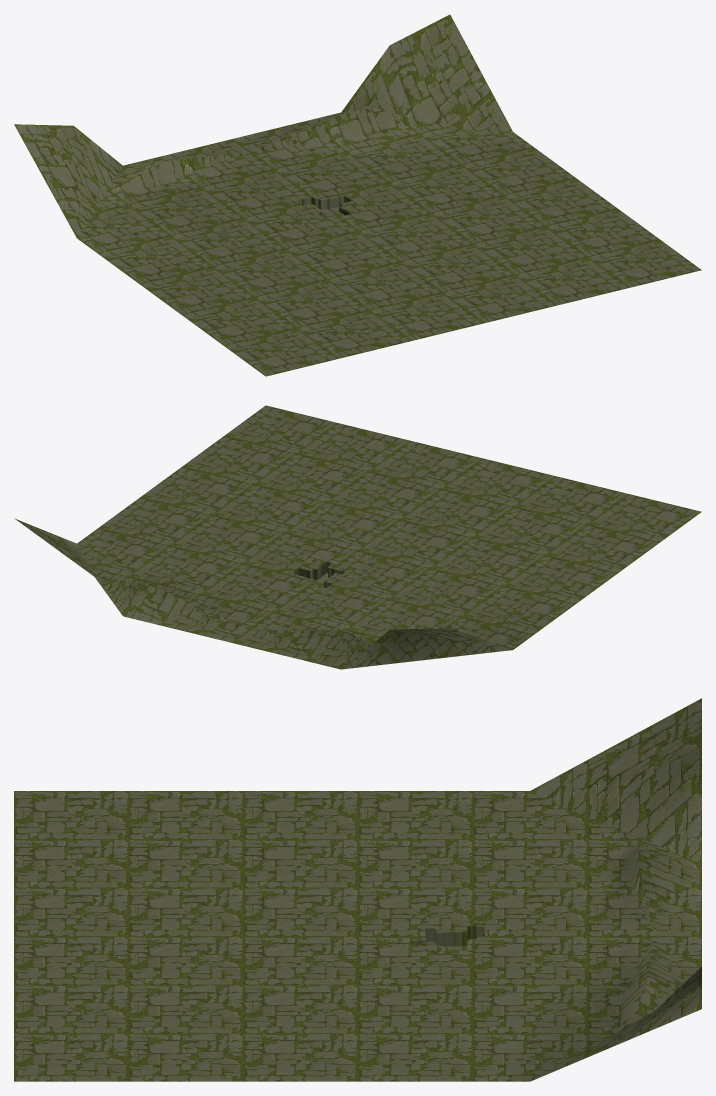
File: f_1132_floor_t4m.FBX
3 views of the same model, one above another, from view 1: azimuth 30°, elevation 25°; view 2: azimuth 150°, elevation 25°; view 3: azimuth 270°, elevation 25° (orthographic). The views are drawn at different scales.
Visible parts, largest first — view 1: Plane001; view 2: Plane001; view 3: Plane001.
Boxes of the visible parts, box(x1,y1,x2,y2) form: Plane001: box(14, 14, 701, 376); Plane001: box(14, 405, 701, 669); Plane001: box(14, 698, 701, 1081).
Bounding box in the file's own units: 4829 × 863 × 4829.
